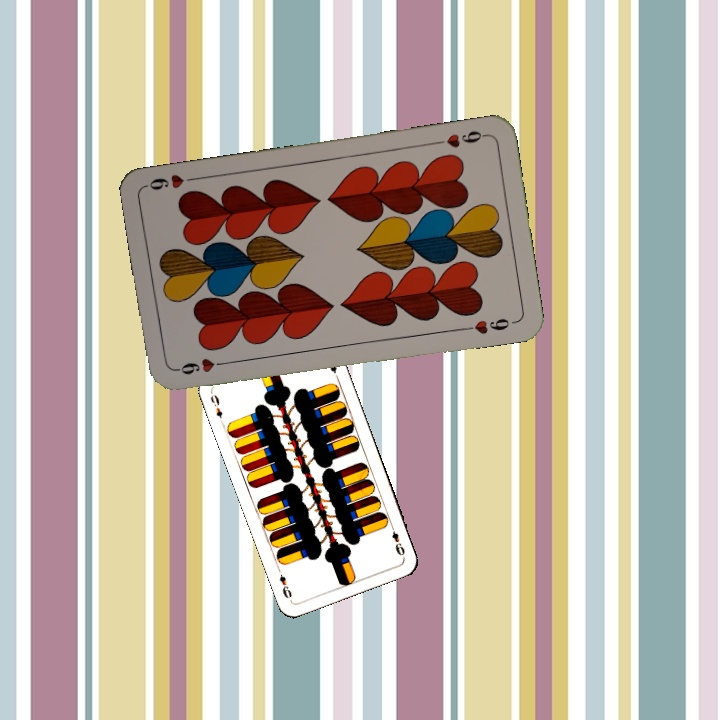E9: (386, 521, 408, 558), (206, 387, 226, 426)
H9: (431, 127, 490, 150), (172, 354, 231, 377)
